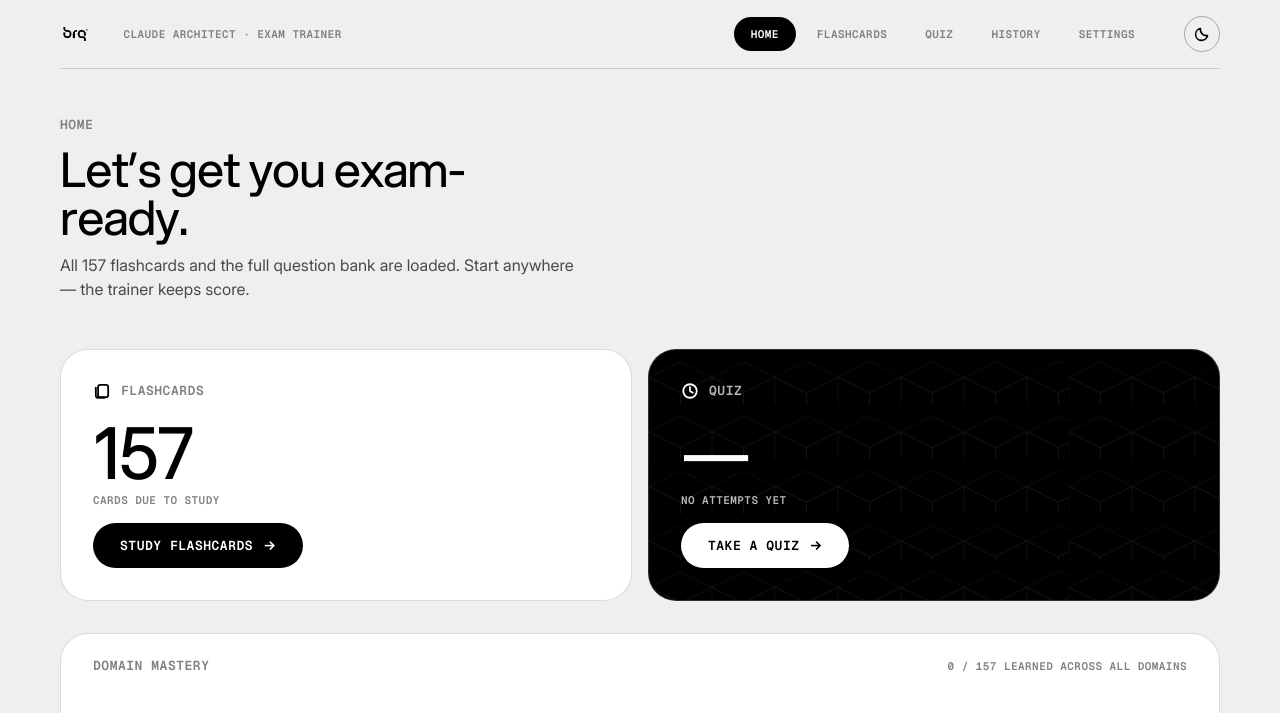
Test: App — navigation › switches to ModeSelect when Quiz nav tab is clicked
What coordinates should you click on to do the following:
click the button "Quiz"
I would click on:
 (939, 34)
Its box is [908,17,970,51].
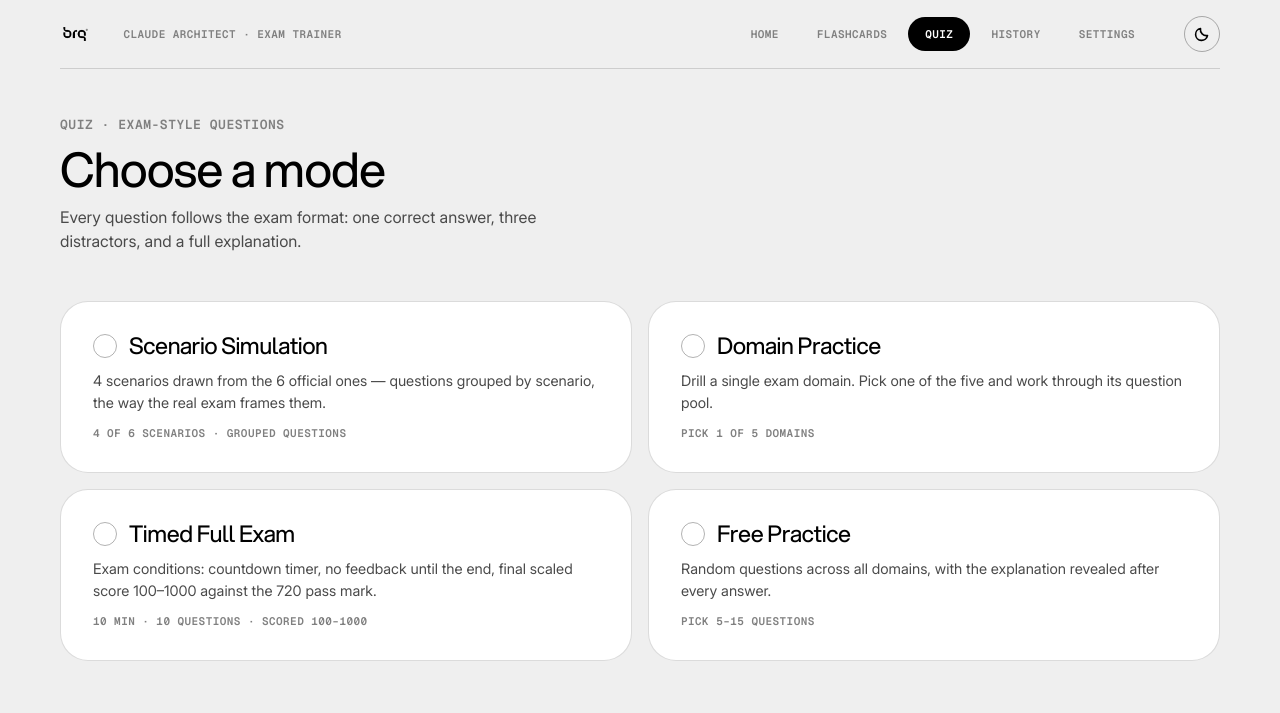
Now the heading "Choose a mode" is shown, box [60,134,385,203]
